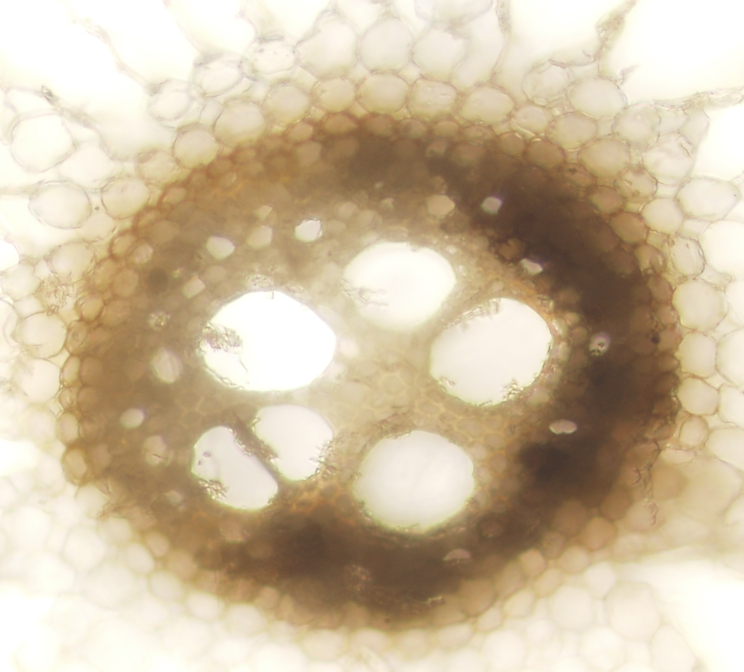lm: (191, 405, 334, 511), (200, 287, 337, 392), (428, 297, 552, 407), (352, 431, 475, 532), (342, 240, 458, 330)
